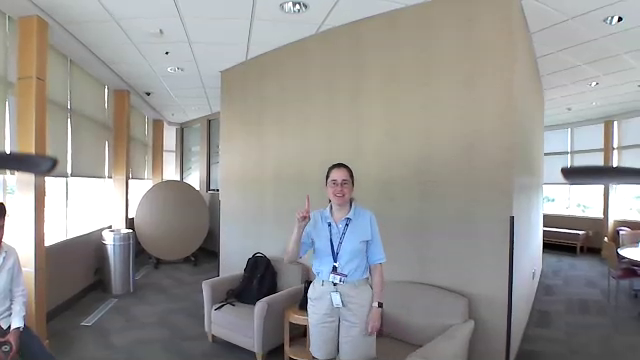up: (293, 191, 317, 229)
